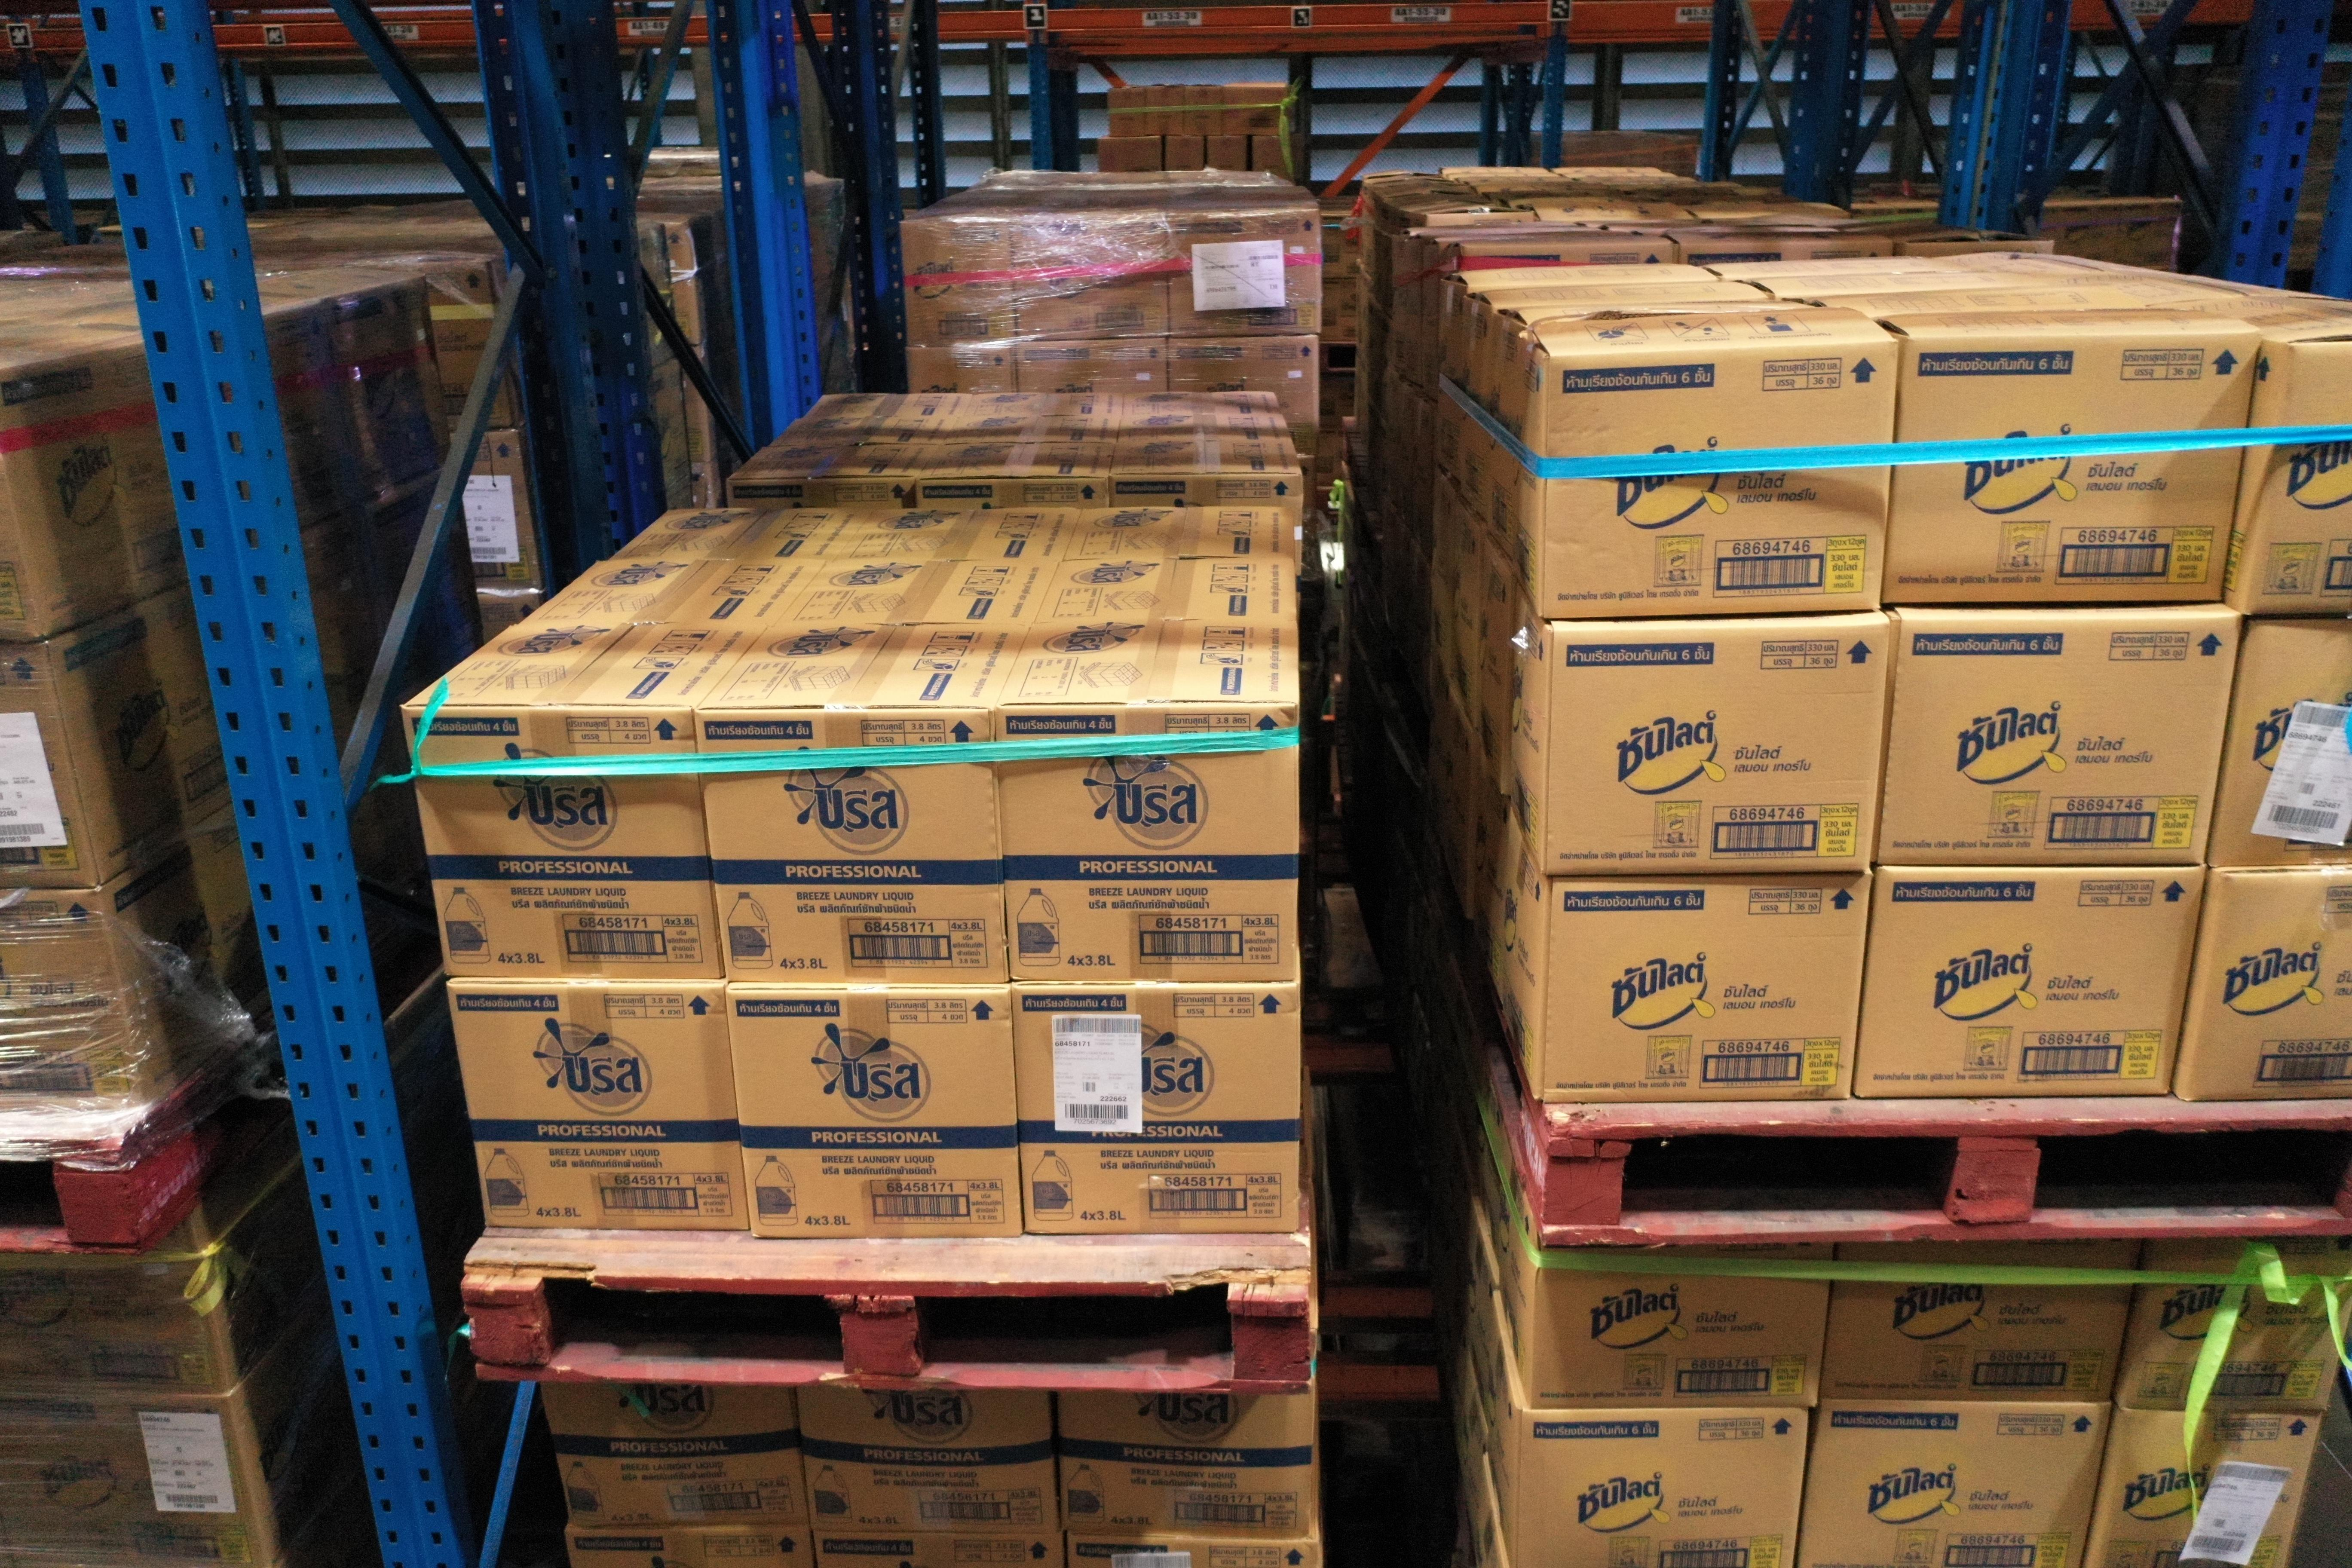-: (1881, 332, 2256, 605), (1542, 341, 1900, 621), (1874, 614, 2242, 870), (1543, 623, 1892, 882), (402, 705, 726, 980), (696, 709, 1011, 989), (996, 703, 1298, 983), (1855, 864, 2205, 1101), (1536, 877, 1872, 1106), (726, 989, 1027, 1235), (451, 983, 751, 1227), (1011, 983, 1300, 1235), (1799, 1396, 2112, 1568), (1529, 1241, 1837, 1412), (1820, 1241, 2140, 1405), (0, 1393, 273, 1566), (1517, 1410, 1809, 1568), (2117, 1234, 2352, 1419), (794, 1382, 1059, 1538), (0, 1218, 227, 1396), (1053, 1388, 1316, 1542), (2184, 870, 2352, 1102), (541, 1384, 807, 1529), (2086, 1407, 2324, 1568), (2212, 619, 2352, 868), (0, 887, 143, 1122), (2240, 339, 2352, 614), (0, 637, 96, 894), (1066, 1529, 1321, 1568), (814, 1529, 1064, 1568), (572, 1529, 814, 1568)
2: (1167, 205, 1321, 341), (1015, 213, 1167, 343), (898, 219, 1018, 346)
